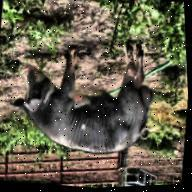boar: (2, 25, 169, 167)
